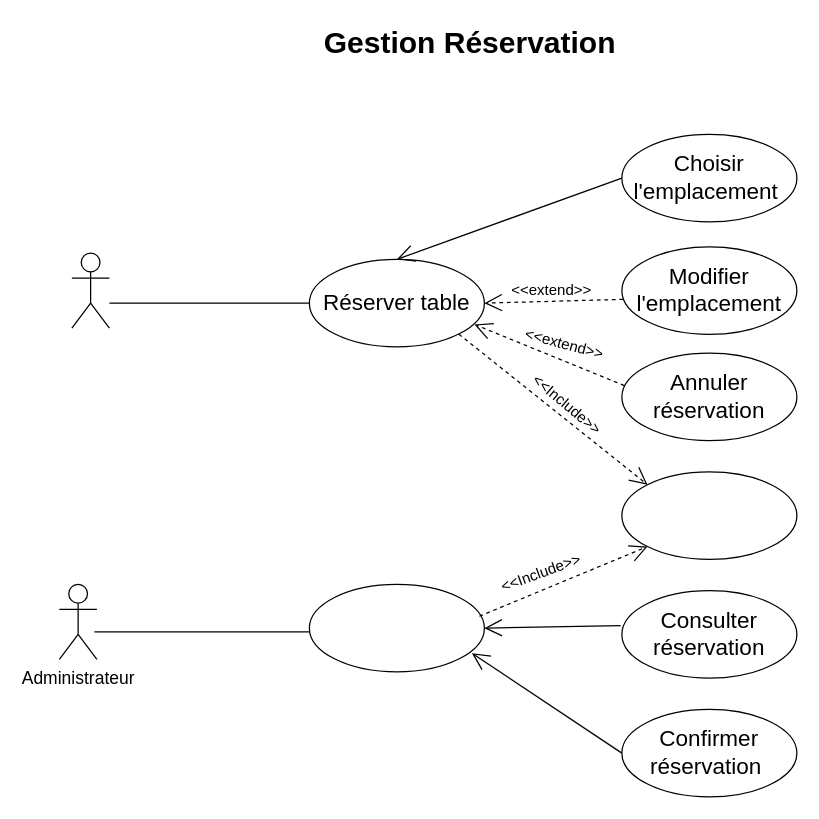
This 819x819 diagram has some shape labels left out. Each missing label, with the centre of its shape:
"Client" goes at [90,290].
"Gérer réservation" goes at [396,627].
"S'authentifier" goes at [709,515].
